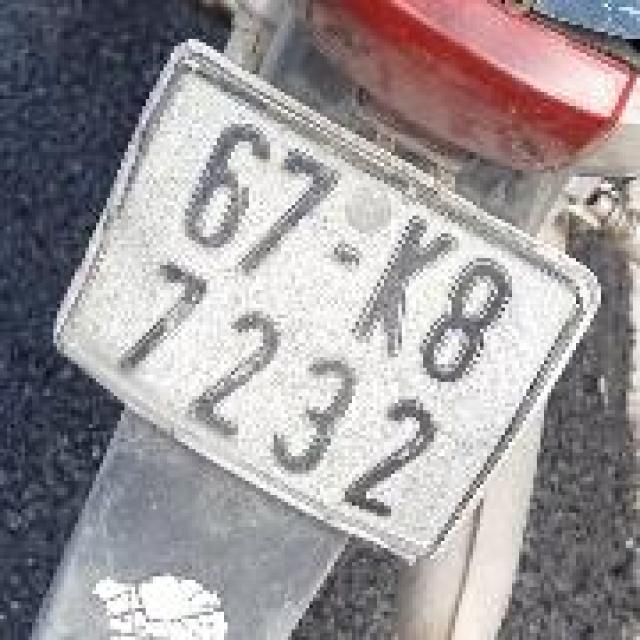2: (331, 382, 461, 534), (176, 299, 299, 454)
3: (260, 339, 375, 491)
6: (171, 110, 285, 265)
7: (223, 138, 351, 301), (98, 246, 224, 391)
8: (406, 240, 530, 400)
K: (336, 205, 475, 375)
